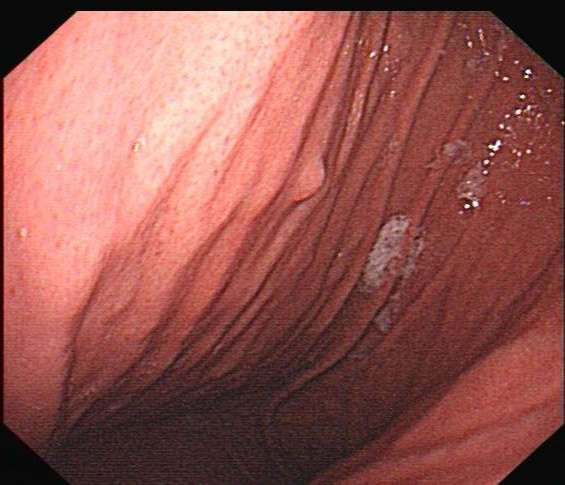Polyp: (279, 153, 335, 216)
